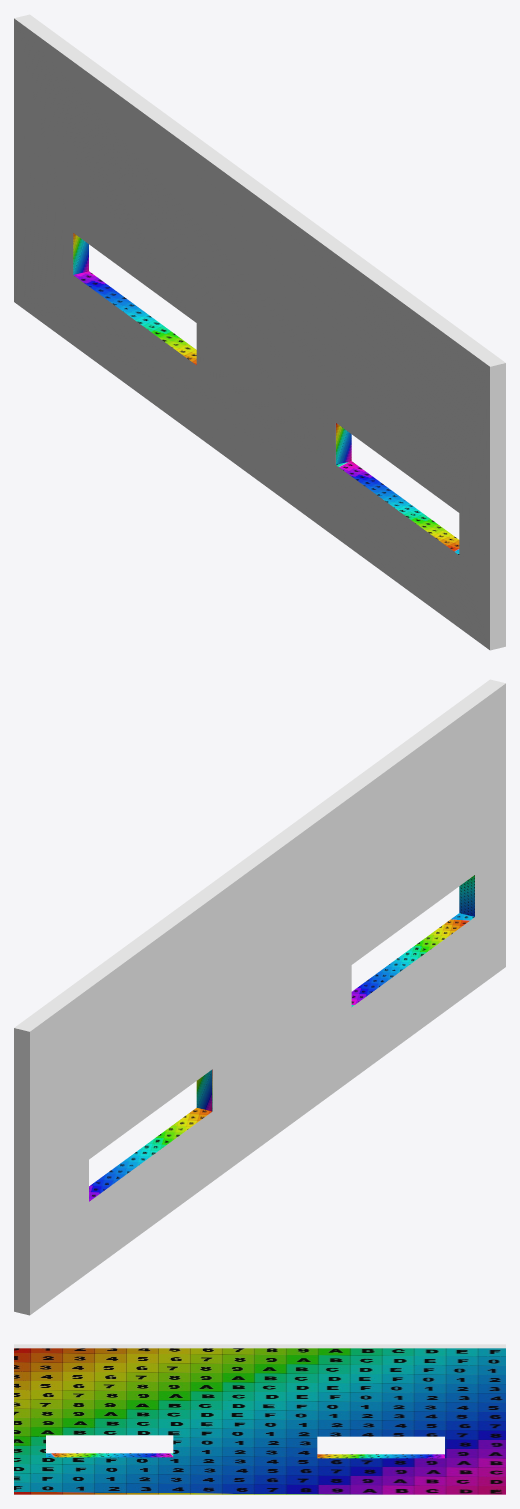
Rendered from Wall.dae.
The picture shows the model from 3 angles, top to bottom: view 1: azimuth 30°, elevation 25°; view 2: azimuth 150°, elevation 25°; view 3: azimuth 270°, elevation 25°; orthographic projection. The views are drawn at different scales.
Parts seen in each view (by area): view 1: SketchUp (×3); view 2: SketchUp (×3); view 3: SketchUp (×4).
Part boxes in pixels (x1=…): SketchUp (×3): x1=14, y1=14, x2=505, y2=650; SketchUp (×3): x1=14, y1=679, x2=505, y2=1315; SketchUp (×4): x1=14, y1=1344, x2=505, y2=1494.
Size of the model in its own units: 2.64 by 137 by 45.14.
2 materials, 1 textured.
